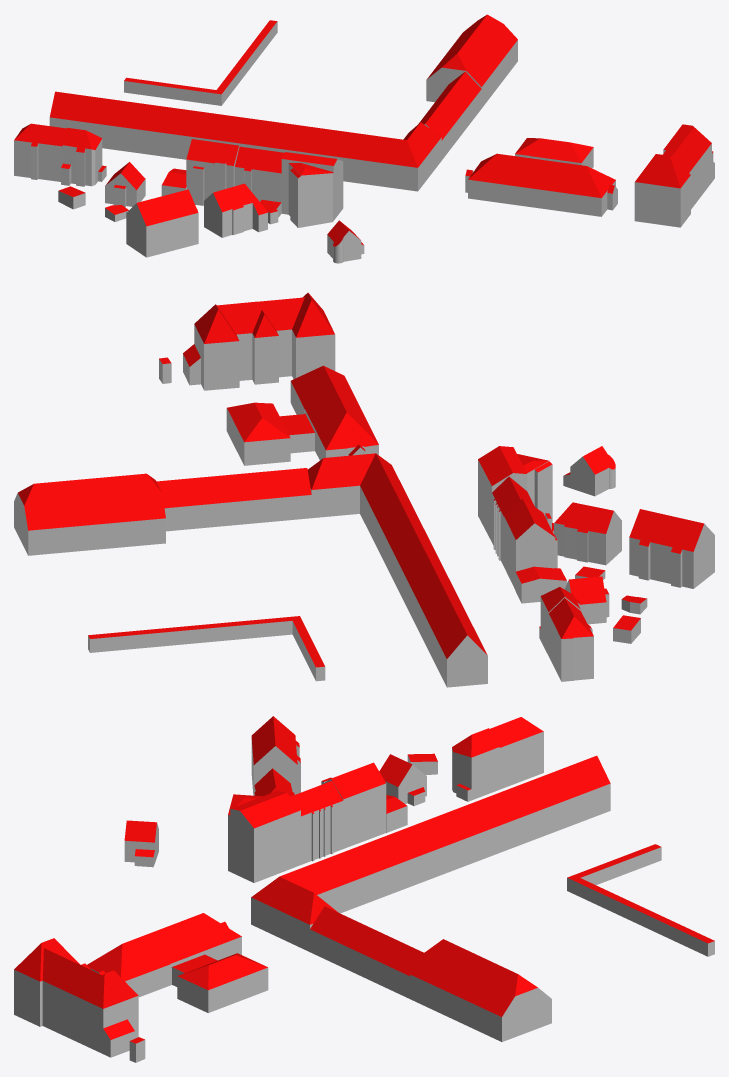
3 views of the same model, one above another, from view 1: azimuth 30°, elevation 25°; view 2: azimuth 150°, elevation 25°; view 3: azimuth 270°, elevation 25° (orthographic). The views are drawn at different scales.
Bounding box in the file's own units: 201 × 22.64 × 198.
